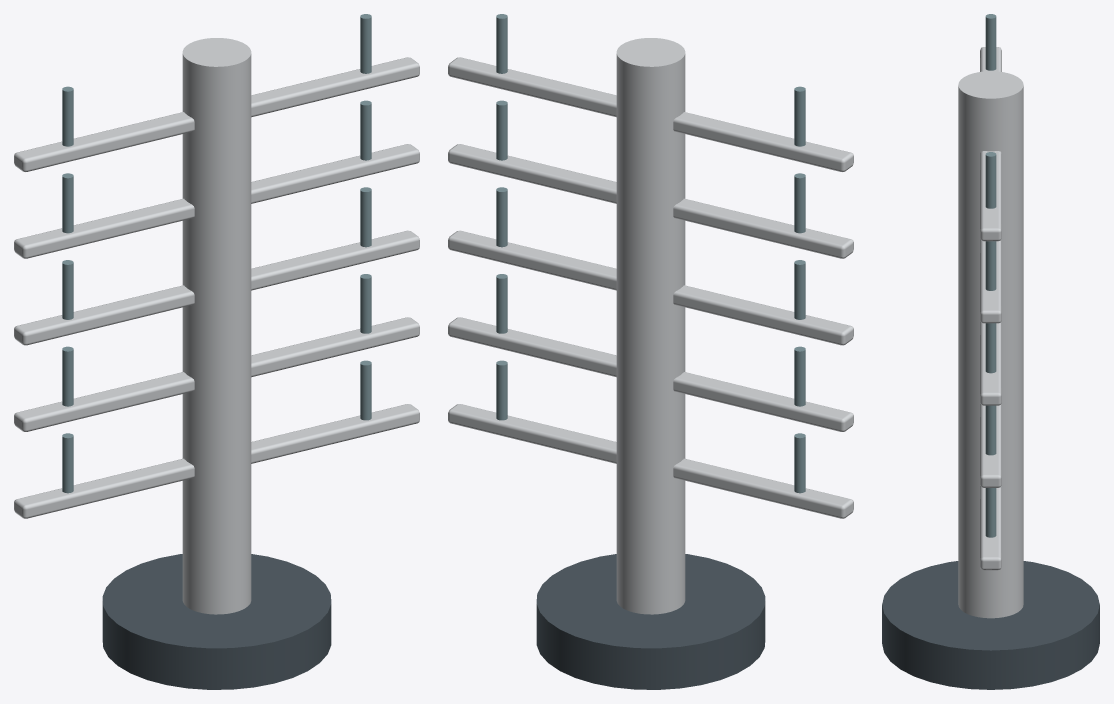
The model's file is communications.glb.
3 views of the same model, side by side, from view 1: azimuth 30°, elevation 25°; view 2: azimuth 150°, elevation 25°; view 3: azimuth 270°, elevation 25° (orthographic). The views are drawn at different scales.
Visible parts, largest first — view 1: communications-array; view 2: communications-array; view 3: communications-array.
Boxes of the visible parts, bbox=[...] form: communications-array: bbox=[14, 14, 419, 689]; communications-array: bbox=[448, 14, 853, 689]; communications-array: bbox=[882, 14, 1099, 689].
Size of the model in its own units: 1.2 by 1.7 by 0.6.
